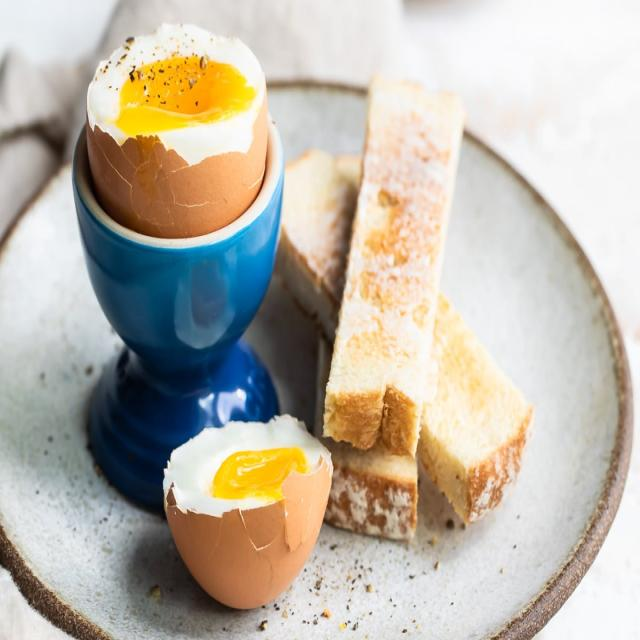huevos: (82, 25, 281, 220), (158, 411, 332, 615)
